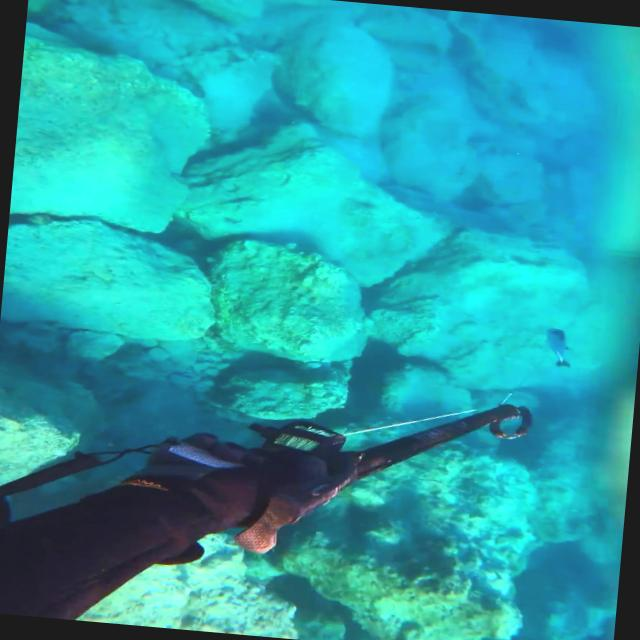Balon Baligi: (544, 328, 574, 368)
